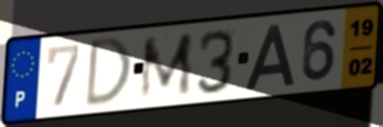3: (196, 27, 238, 96)
6: (301, 18, 339, 85)
7: (45, 41, 83, 110)
A: (242, 22, 297, 92)
D: (83, 34, 135, 111)
M: (137, 29, 195, 103)
